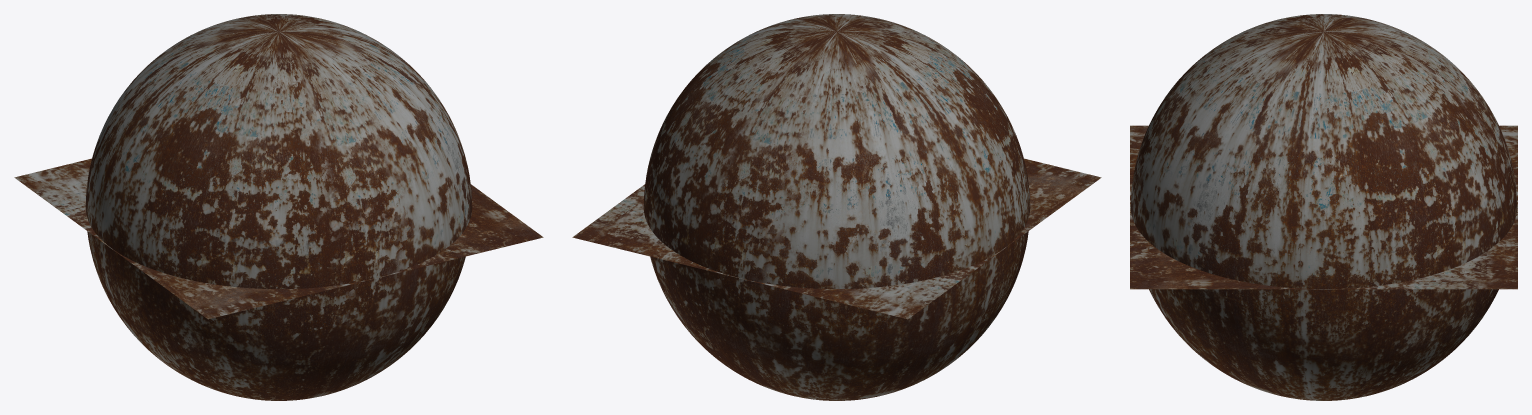
Rendered from rusty_metal_04_2k.fbx.
3 renders of one model, left to right at view 1: azimuth 30°, elevation 25°; view 2: azimuth 150°, elevation 25°; view 3: azimuth 270°, elevation 25°, orthographic.
Parts seen in each view (by area): view 1: Sphere, Plane; view 2: Sphere, Plane; view 3: Sphere, Plane.
Part boxes in pixels (<box>): Sphere: <box>85,14,472,400</box>; Plane: <box>14,158,543,319</box>; Sphere: <box>643,14,1030,400</box>; Plane: <box>572,158,1101,319</box>; Sphere: <box>1130,14,1517,400</box>; Plane: <box>1130,125,1517,289</box>.
Bounding box in the file's own units: 200 × 200 × 200.
